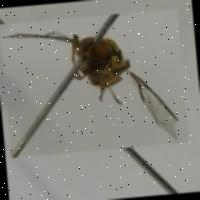Oriental-fruit-fly: (0, 9, 188, 158)
